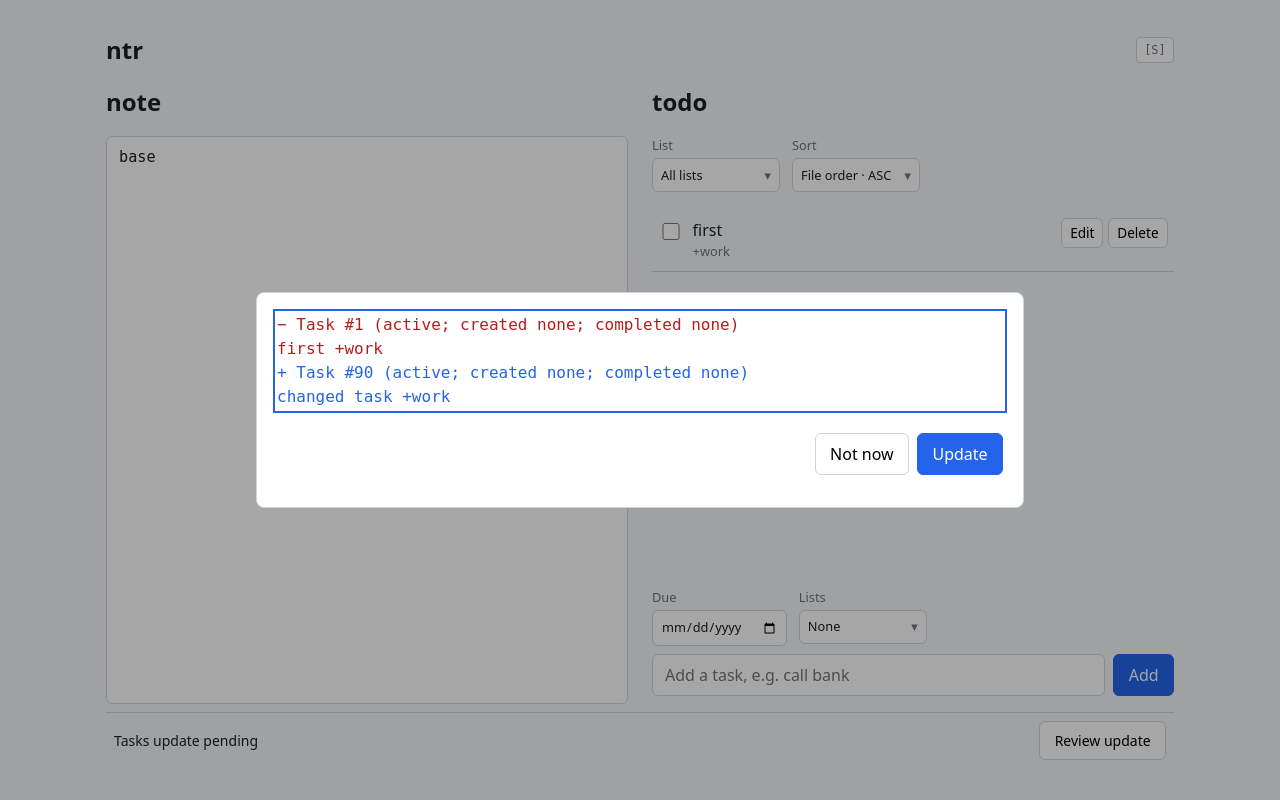
Test: approval across real panes › retains a task offer when label preparation fails and retries without acknowledging unseen content
The width and height of the screenshot is (1280, 800).
Click the button "Update".
click(960, 454)  # box [917,433,1003,475]
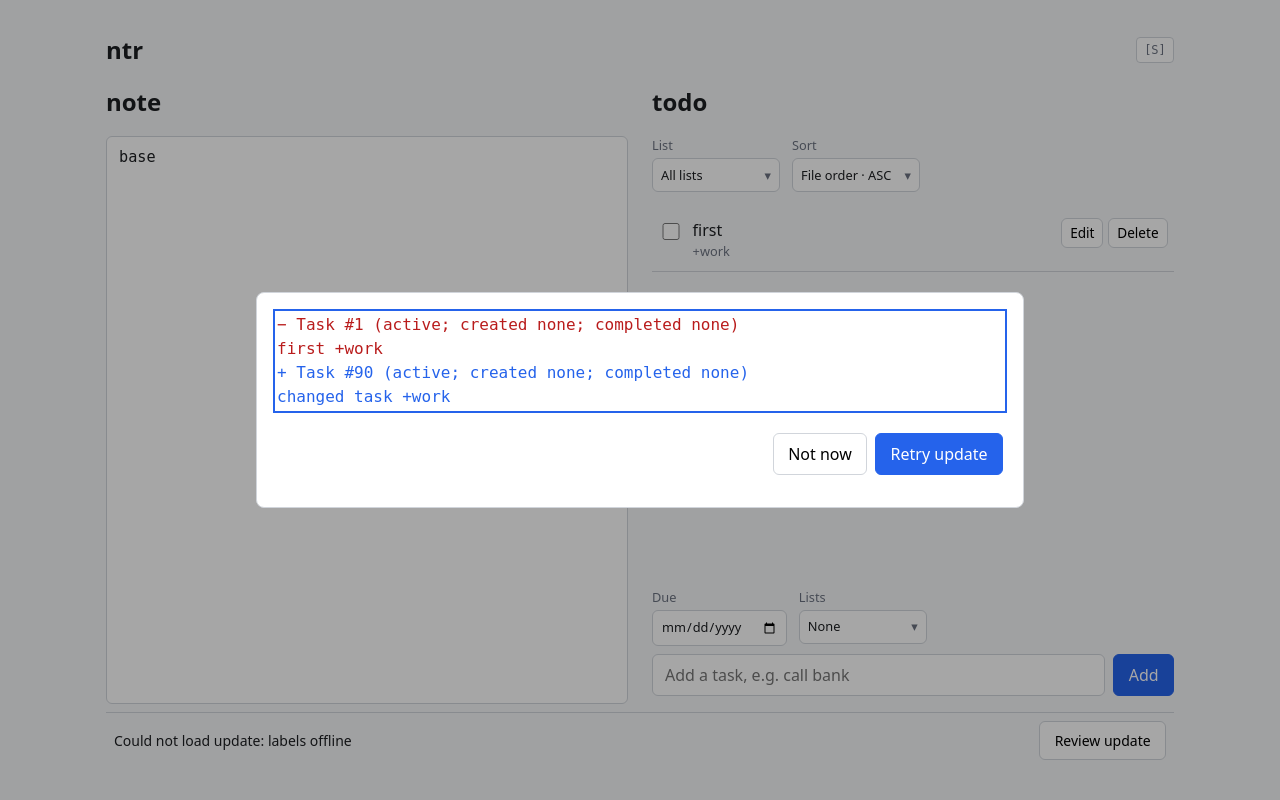
Expected: the list with id "tasks" shows "first", [693,219,722,241]
Result: the button "Retry update" is shown
Click the button "Retry update".
click(939, 454)  # box [875,433,1003,475]
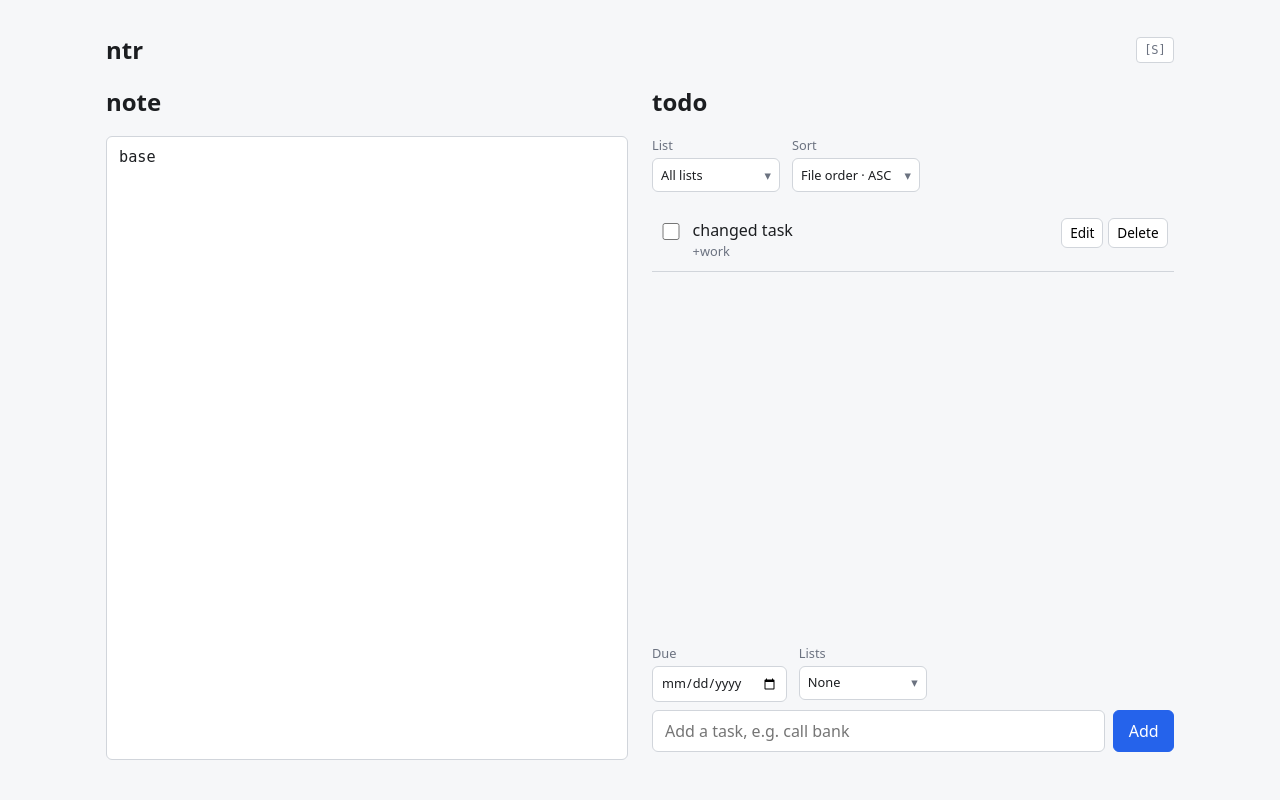
Result: the list with id "tasks" shows "changed task" at [693,219,793,241]
